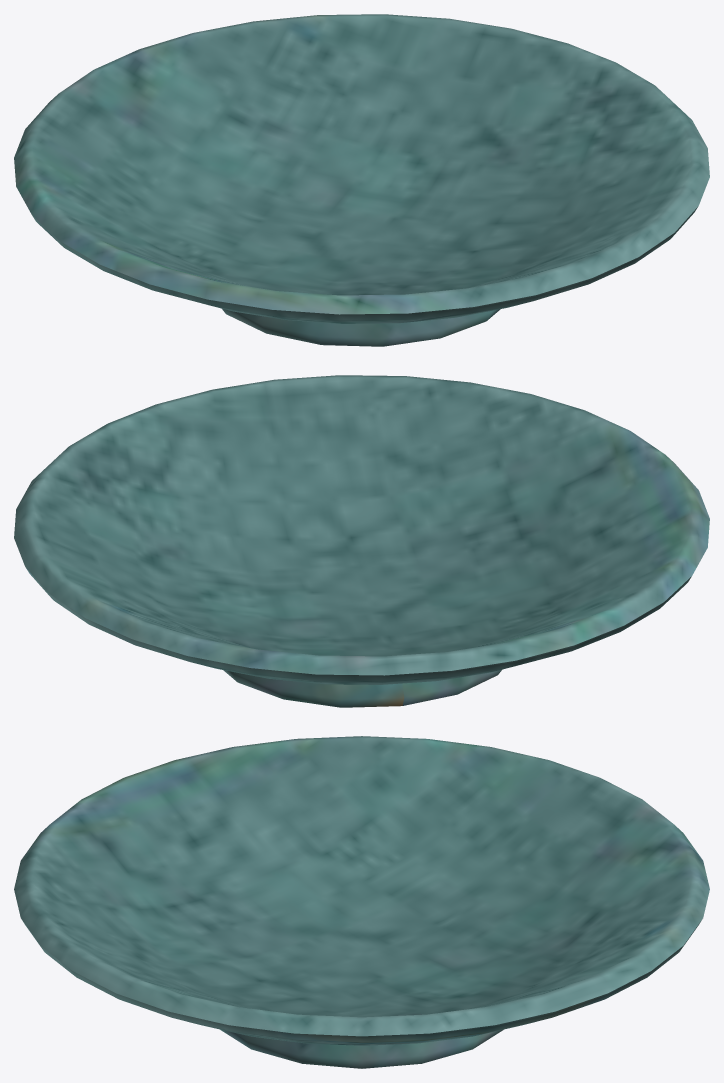
The model's file is bowl.glb.
The picture shows the model from 3 angles, top to bottom: view 1: azimuth 30°, elevation 25°; view 2: azimuth 150°, elevation 25°; view 3: azimuth 270°, elevation 25°; orthographic projection.
Visible parts, largest first — view 1: Bowl_A; view 2: Bowl_A; view 3: Bowl_A.
Boxes of the visible parts, x1,y1,x2,y2 form: Bowl_A: [14, 14, 709, 346]; Bowl_A: [14, 375, 709, 707]; Bowl_A: [14, 736, 709, 1068].
Bounding box in the file's own units: 0.1984 × 0.0394 × 0.1984.
Materials: 1 (1 with a texture image).
